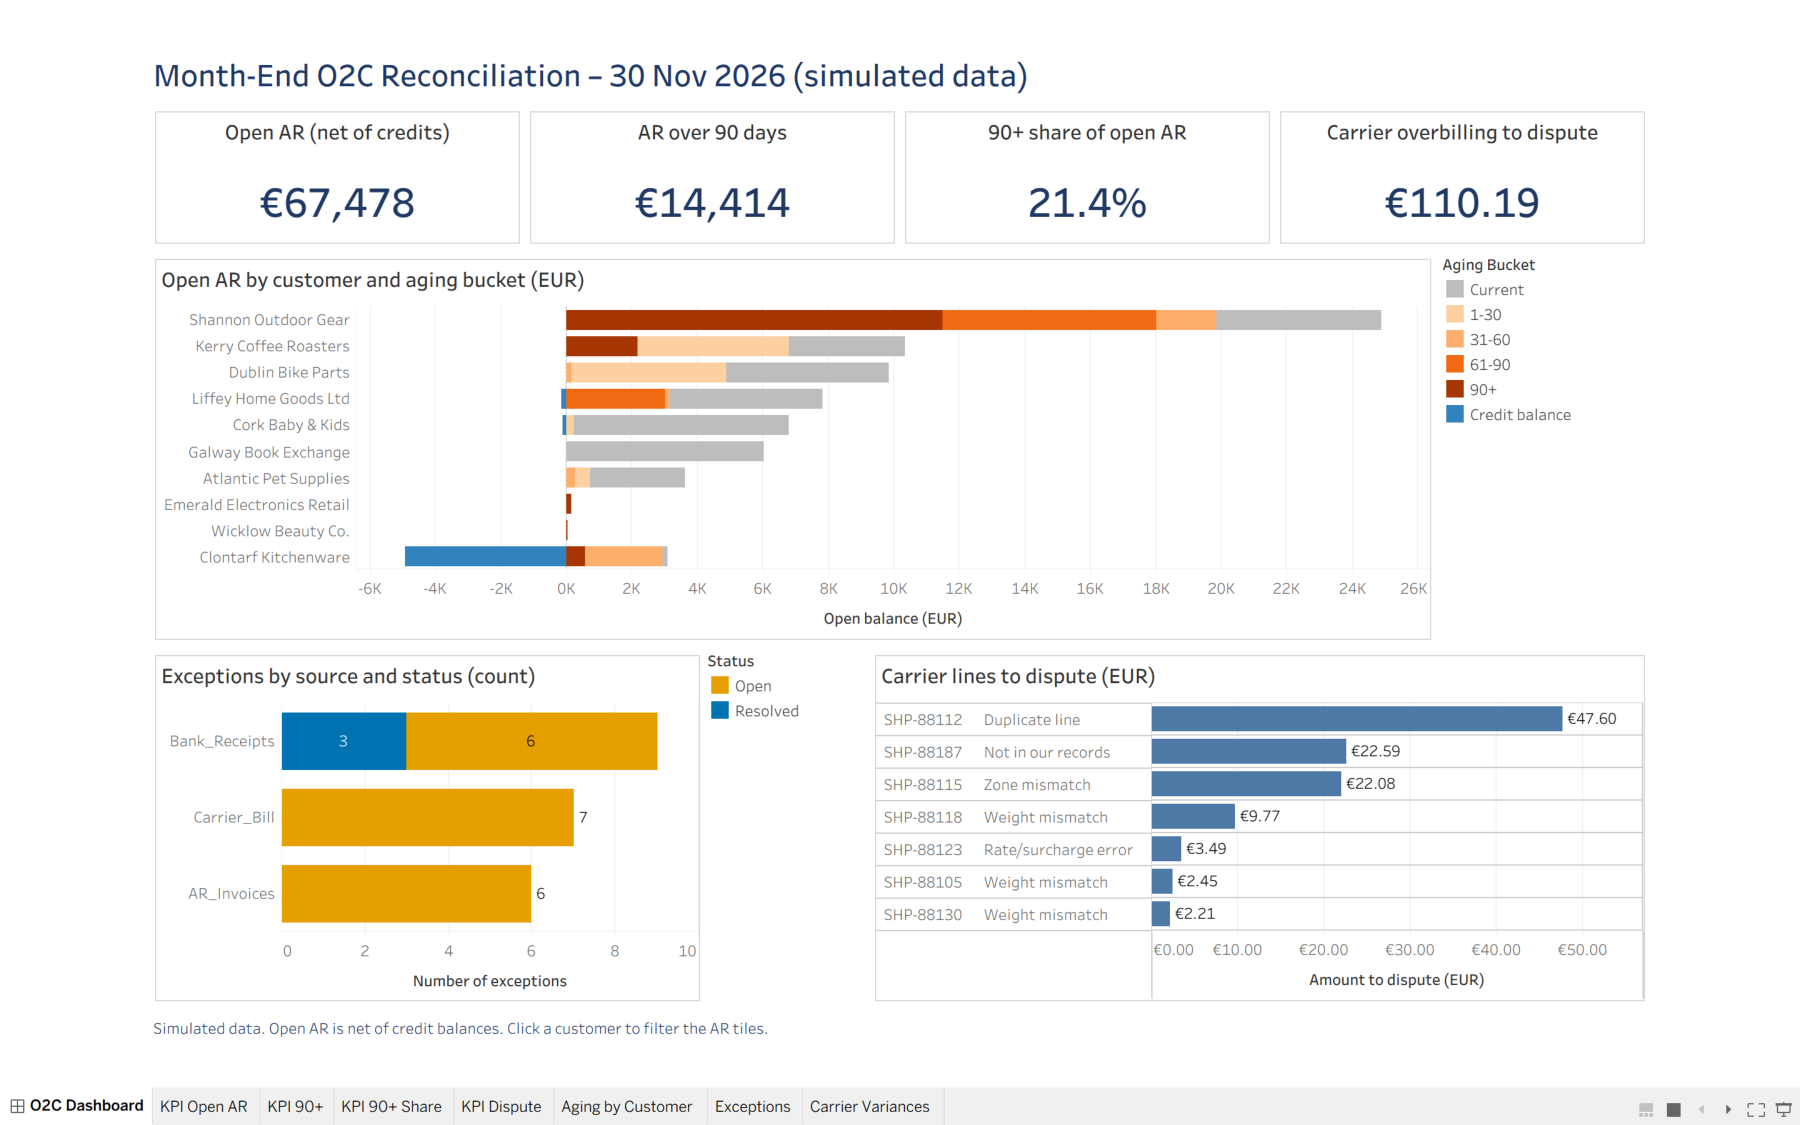

The dashboard page shown, as its layout file describes it:
{"tool":"tableau","page":{"name":"O2C Dashboard","canvas":[1200,800],"ordinal":0},"visuals":[{"type":"text","box":[9.6,6.4,1180.8,48]},{"type":"worksheet","title":"KPI Open AR","mark":"Text","box":[9.6,56,295.2,112]},{"type":"worksheet","title":"KPI 90+","mark":"Text","box":[304.8,56,295.2,112]},{"type":"worksheet","title":"KPI 90+ Share","mark":"Text","box":[600,56,295.2,112]},{"type":"worksheet","title":"KPI Dispute","mark":"Text","box":[895.2,56,295.2,112]},{"type":"worksheet","title":"Aging by Customer","mark":"Bar","rows":["Customer Name"],"cols":["Open Balance (EUR)"],"box":[9.6,172,1012.8,308]},{"type":"legend","title":"Aging by Customer","param":"[federated.ar].[none:Aging Bucket:nk]","box":[1027.2,172,163.2,192]},{"type":"worksheet","title":"Exceptions","mark":"Bar","rows":["Source"],"cols":["Exception ID"],"box":[9.6,484,436.8,280]},{"type":"legend","title":"Exceptions","param":"[federated.ex].[none:Status:nk]","box":[448.8,484,120,96]},{"type":"worksheet","title":"Carrier Variances","mark":"Bar","rows":["Shipment ID","Check Result"],"cols":["C_Dispute"],"box":[576,484,614.4,280]},{"type":"text","box":[9.6,768,1180.8,25.6]}]}

Visuals, with their boxes on the page's 1200x800 design canvas (x1, y1, x2, y2). These are canvas units, not pixel positions in the 1800x1125 screenshot, which may show the page scaled, cropped or inside an application window:
text: 10,6,1190,54
"KPI Open AR" worksheet (Text marks): 10,56,305,168
"KPI 90+" worksheet (Text marks): 305,56,600,168
"KPI 90+ Share" worksheet (Text marks): 600,56,895,168
"KPI Dispute" worksheet (Text marks): 895,56,1190,168
"Aging by Customer" worksheet (Bar marks): 10,172,1022,480
"Aging by Customer" legend: 1027,172,1190,364
"Exceptions" worksheet (Bar marks): 10,484,446,764
"Exceptions" legend: 449,484,569,580
"Carrier Variances" worksheet (Bar marks): 576,484,1190,764
text: 10,768,1190,794
